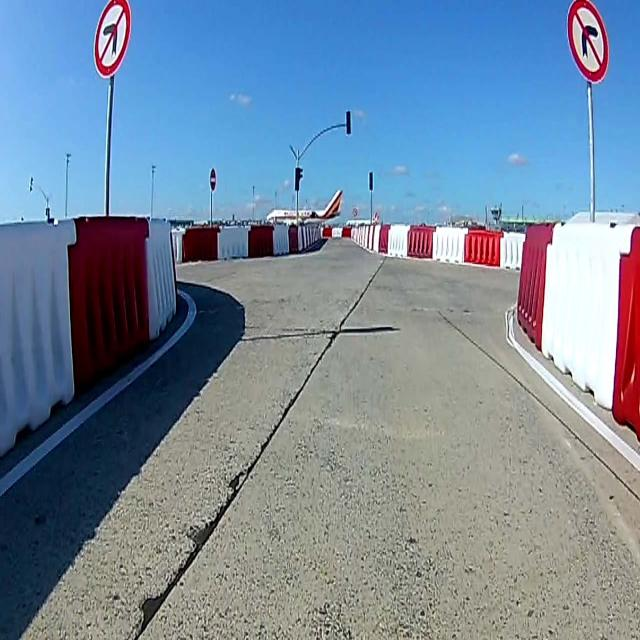sagadonulmez: (567, 2, 608, 82)
soladonulmez: (92, 3, 130, 78)
